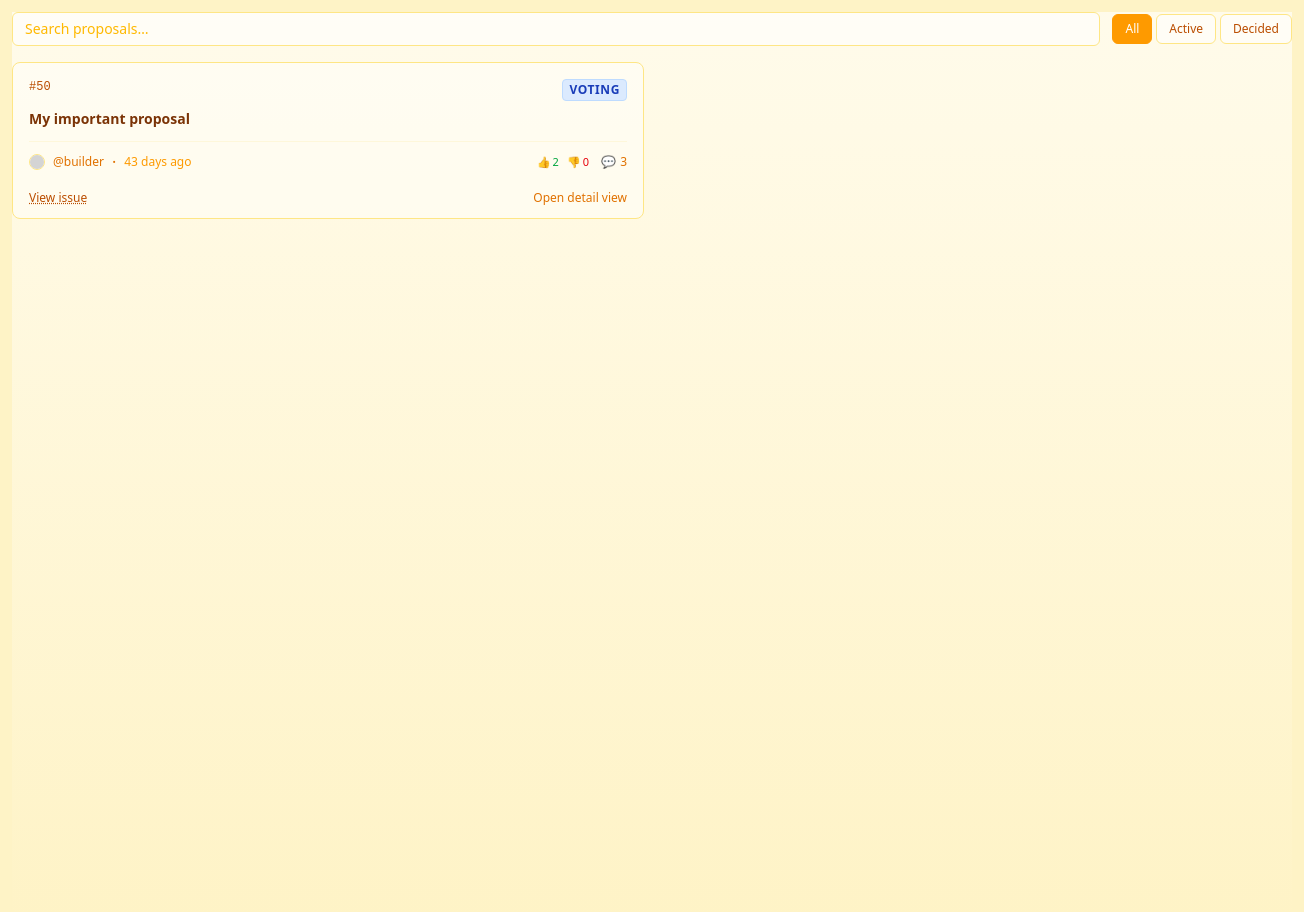
Test: ProposalList › shows proposal title in the detail panel header
This screenshot has width=1304, height=912.
Click the button "#50" at point(595, 90), box [13,63,643,190]
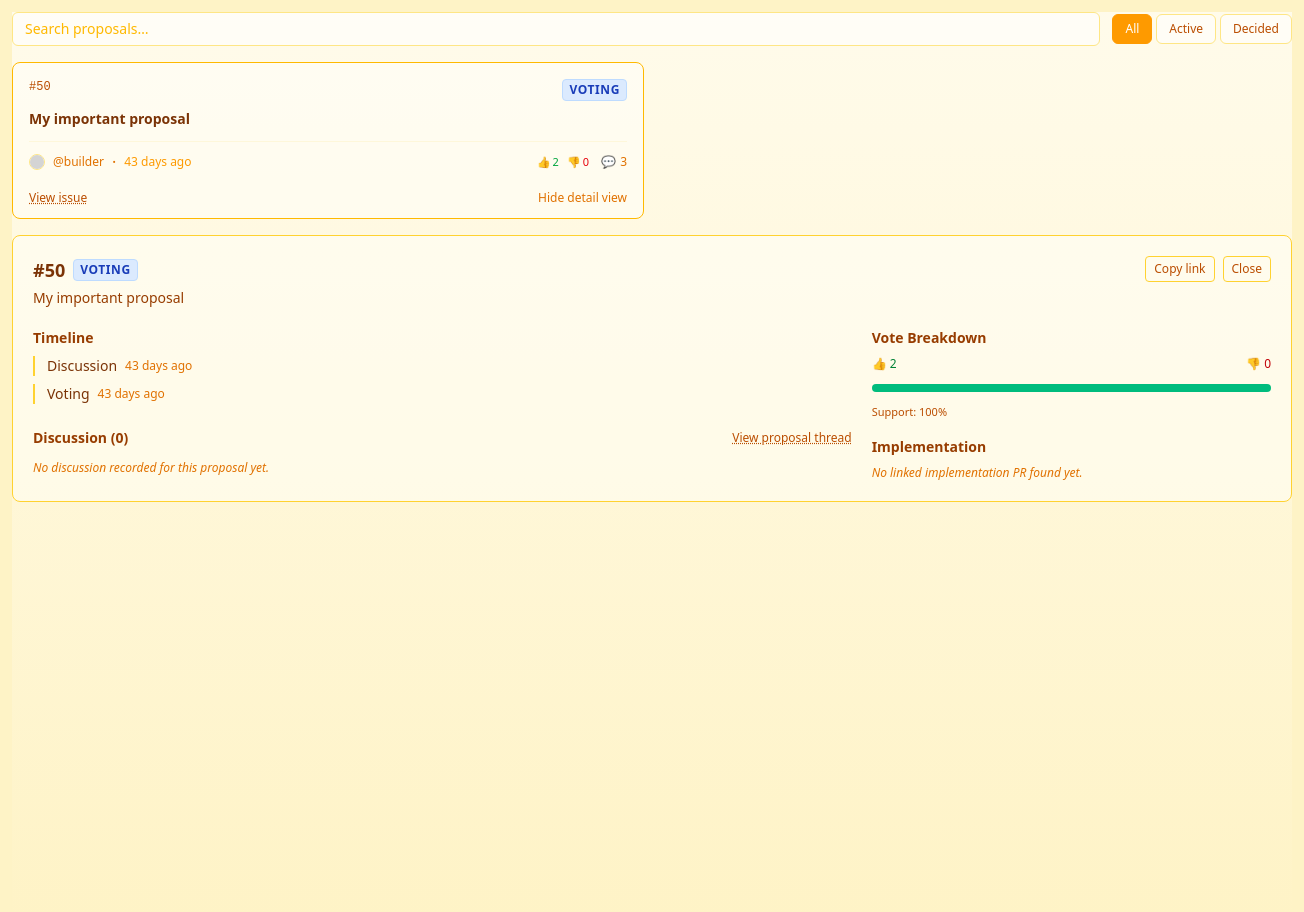
Expected: the number of headings "My important proposal" is 2, [29,109,190,128]; [33,288,184,308]
Expected: the button with aria-label "close detail view" is shown, [1222,256,1271,282]
Expected: the button with aria-label "copy link to proposal" is shown, [1145,256,1215,282]
